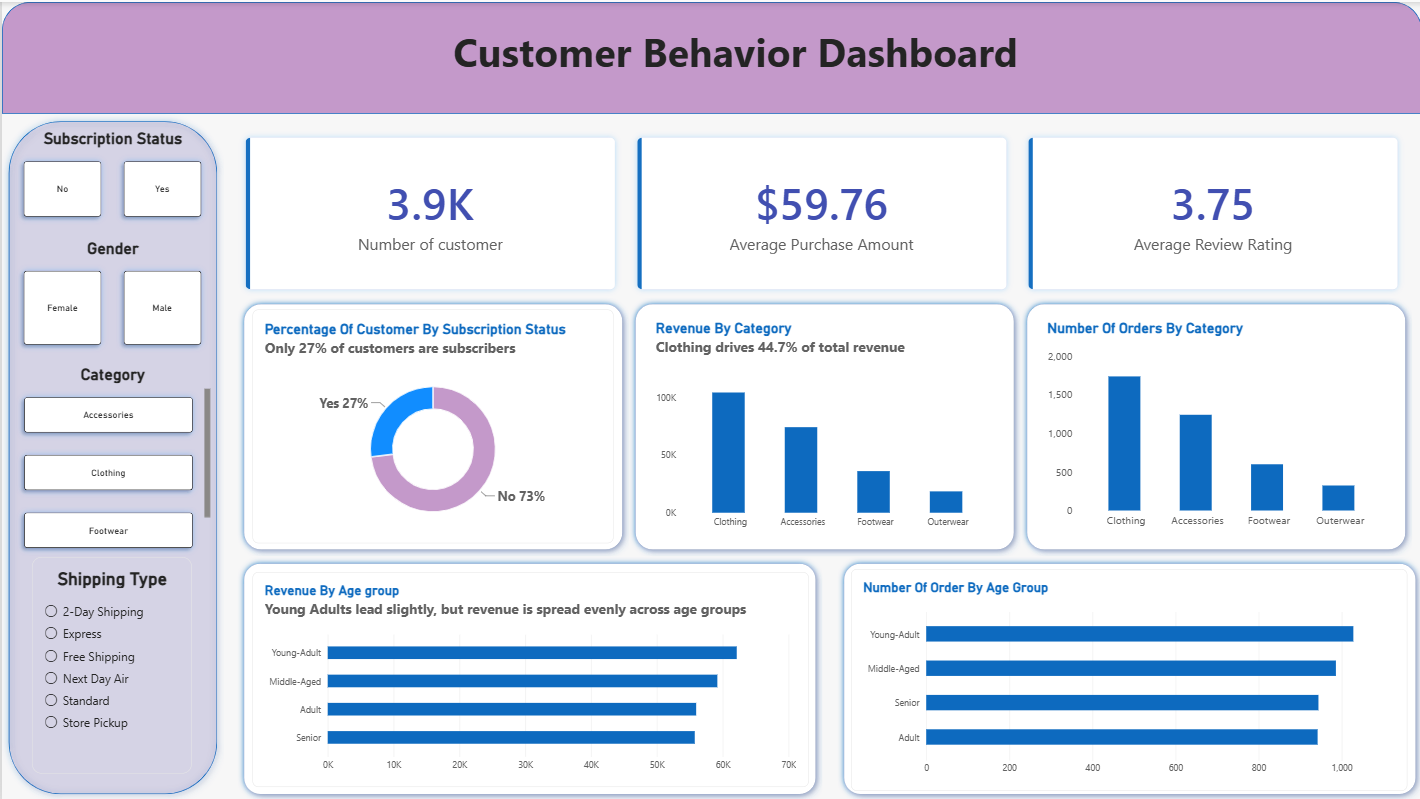

The dashboard page shown, as its layout file describes it:
{"tool":"powerbi","page":{"name":"Page 1","canvas":[1920,1080],"ordinal":0},"visuals":[{"type":"cardVisual","fields":{"Data":["customer_data.Number of customer","customer_data.Average Purchase Amount","customer_data.Average Review Rating"]},"box":[318,172.6,1580.8,227.1],"z":0},{"type":"shape","box":[0,0,1919.1,151.1],"z":1000},{"type":"textbox","box":[165,30,1655,120],"z":2000},{"type":"shape","box":[318,399.8,529.2,349.8],"z":3000},{"type":"donutChart","title":"Percentage Of Customer By Subscription Status","fields":{"Category":["customer_data.subscription_status"],"Y":["CountNonNull(customer_data.customer_id)"]},"box":[338.4,415.6,488.3,315.7],"z":4000},{"type":"shape","box":[847.2,399.8,529.2,349.8],"z":5000},{"type":"shape","box":[1376.4,399.8,529.2,349.8],"z":6000},{"type":"clusteredColumnChart","title":"Revenue By Category","fields":{"Category":["customer_data.category"],"Y":["Sum(customer_data.purchase_amount)"]},"box":[867.6,415.6,490.6,315.7],"z":7000},{"type":"clusteredColumnChart","title":"Number Of Orders By Category","fields":{"Category":["customer_data.category"],"Y":["CountNonNull(customer_data.customer_id)"]},"box":[1396.9,415.6,490.6,315.7],"z":8000},{"type":"shape","box":[0,152.2,299.8,927.8],"z":9000},{"type":"advancedSlicerVisual","title":"Subscription Status","fields":{"Values":["customer_data.subscription_status"]},"box":[18.2,172.6,263.5,129.5],"z":10000},{"type":"advancedSlicerVisual","title":"Category","fields":{"Values":["customer_data.category"]},"box":[18.2,490.6,263.5,258.9],"z":11000},{"type":"listSlicer","title":"Shipping Type","fields":{"Values":["customer_data.shipping_type"]},"box":[40.9,749.5,215.8,293],"z":12000},{"type":"shape","box":[318,749.5,790.4,329.3],"z":13000},{"type":"shape","box":[1128.8,749.5,790.4,329.3],"z":14000},{"type":"clusteredBarChart","title":"Revenue By Age group","fields":{"Category":["customer_data.age_group"],"Y":["Sum(customer_data.purchase_amount)"]},"box":[338.4,770,751.8,290.7],"z":15000},{"type":"clusteredBarChart","title":"Number Of Order By Age Group","fields":{"Category":["customer_data.age_group"],"Y":["CountNonNull(customer_data.customer_id)"]},"box":[1147,765.4,751.8,299.8],"z":16000},{"type":"advancedSlicerVisual","title":"Gender","fields":{"Values":["customer_data.gender"]},"box":[18.2,320.3,263.5,154.4],"z":17000}]}

Visuals, with their boxes in screenshot pixels (x1, y1, x2, y2), scaled from the page's 1920x1080 canvas onto the 1420x799 screenshot:
cardVisual - customer_data.Number of customer x customer_data.Average Purchase Amount: {"left": 235, "top": 128, "right": 1404, "bottom": 296}
shape: {"left": 0, "top": 0, "right": 1419, "bottom": 112}
textbox: {"left": 122, "top": 22, "right": 1346, "bottom": 111}
shape: {"left": 235, "top": 296, "right": 627, "bottom": 555}
"Percentage Of Customer By Subscription Status" donutChart: {"left": 250, "top": 307, "right": 611, "bottom": 541}
shape: {"left": 627, "top": 296, "right": 1018, "bottom": 555}
shape: {"left": 1018, "top": 296, "right": 1409, "bottom": 555}
"Revenue By Category" clusteredColumnChart: {"left": 642, "top": 307, "right": 1005, "bottom": 541}
"Number Of Orders By Category" clusteredColumnChart: {"left": 1033, "top": 307, "right": 1396, "bottom": 541}
shape: {"left": 0, "top": 113, "right": 222, "bottom": 798}
"Subscription Status" advancedSlicerVisual: {"left": 13, "top": 128, "right": 208, "bottom": 223}
"Category" advancedSlicerVisual: {"left": 13, "top": 363, "right": 208, "bottom": 554}
"Shipping Type" listSlicer: {"left": 30, "top": 554, "right": 190, "bottom": 771}
shape: {"left": 235, "top": 554, "right": 820, "bottom": 798}
shape: {"left": 835, "top": 554, "right": 1419, "bottom": 798}
"Revenue By Age group" clusteredBarChart: {"left": 250, "top": 570, "right": 806, "bottom": 785}
"Number Of Order By Age Group" clusteredBarChart: {"left": 848, "top": 566, "right": 1404, "bottom": 788}
"Gender" advancedSlicerVisual: {"left": 13, "top": 237, "right": 208, "bottom": 351}
